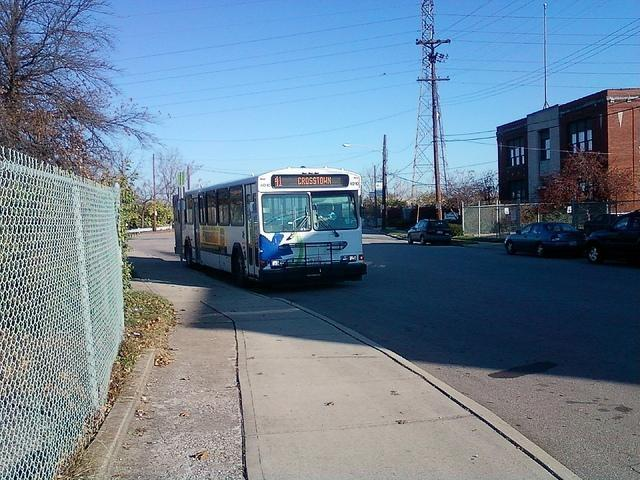bus: (173, 168, 364, 280)
car: (584, 210, 640, 268), (504, 222, 587, 259), (408, 219, 452, 246)
